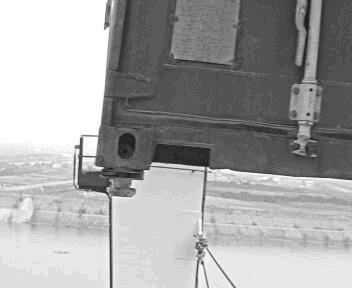twist_lock_1: (97, 164, 149, 205)
